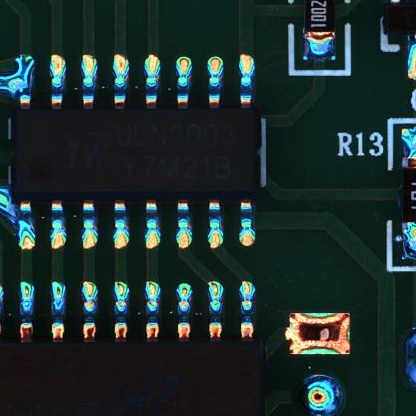spot: (287, 311, 350, 361), (296, 374, 345, 416)
